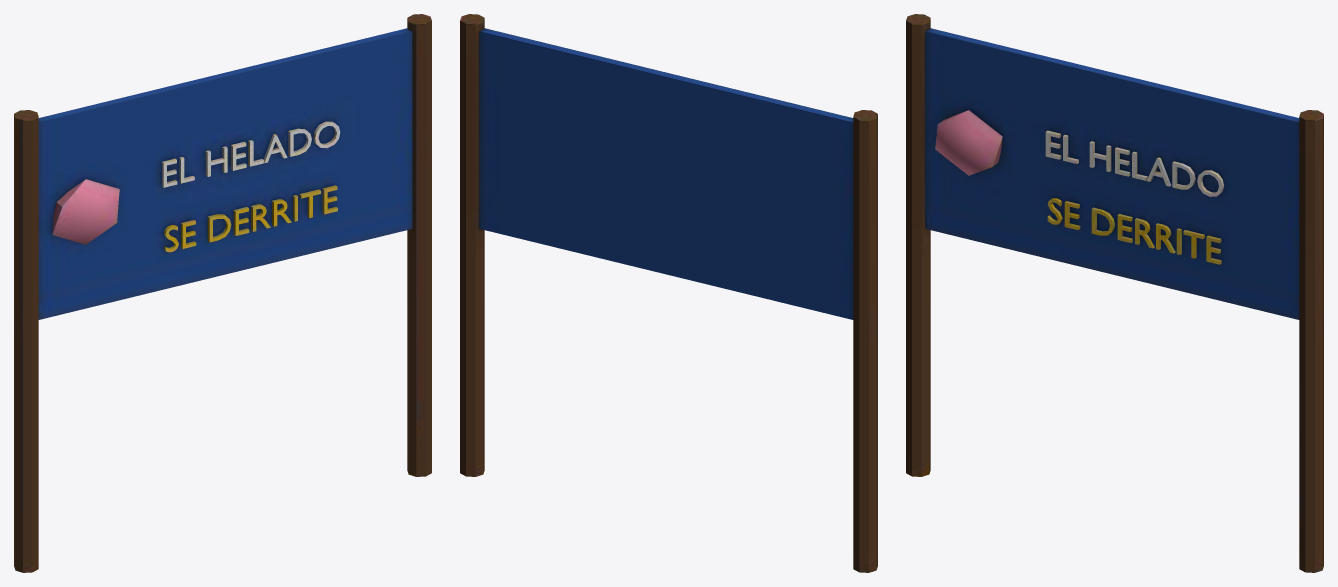
File: cartel_de.glb
The picture shows the model from 3 angles, left to right: view 1: azimuth 30°, elevation 25°; view 2: azimuth 150°, elevation 25°; view 3: azimuth 330°, elevation 25°; orthographic projection.
Visible parts, largest first — view 1: cartel_de; view 2: cartel_de; view 3: cartel_de.
Part boxes in pixels (x1,y1,x2,y2): cartel_de: (14, 14, 431, 572); cartel_de: (460, 14, 877, 572); cartel_de: (906, 14, 1323, 572).
Size of the model in its own units: 2.64 by 2.75 by 0.1881.
1 material, 1 textured.
